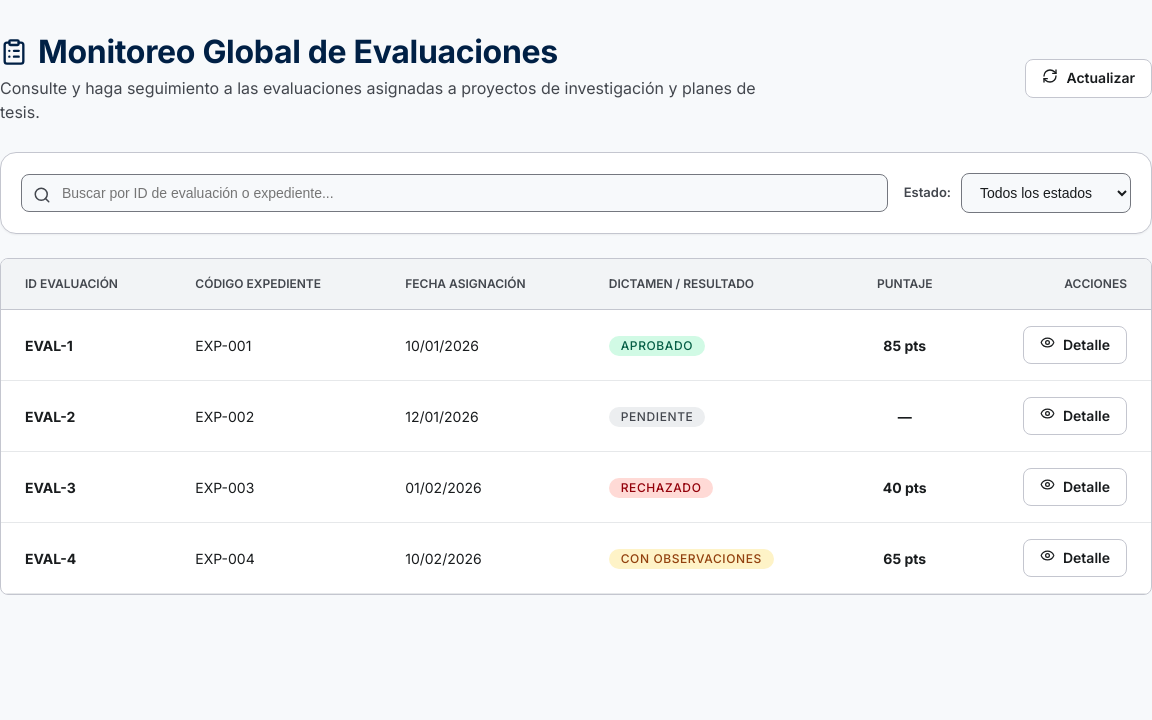
Scenario: DirectorEvaluations › closes detail modal when close button is clicked
Click the button "Detalle" in the row of "EXP-001" at (1075, 345), box [1023,326,1127,364]
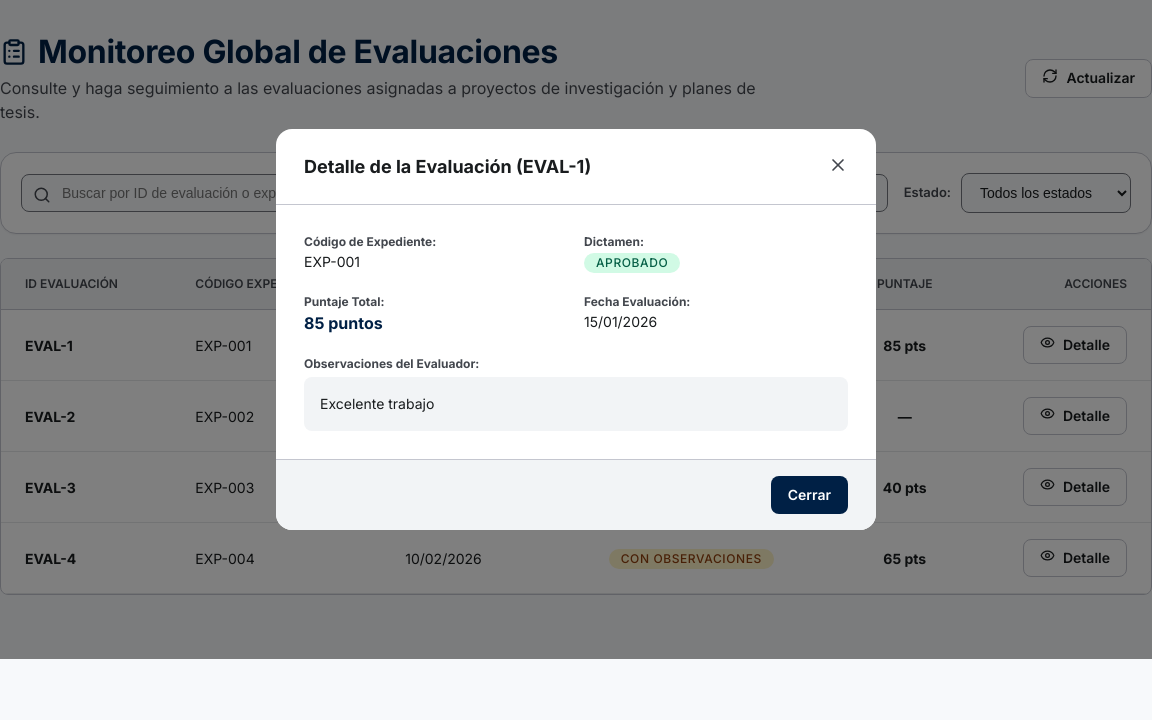
Now the text "Excelente trabajo" is shown, box [304,377,848,431]
Click the button "Cerrar" at (809, 495), box [771,476,848,514]
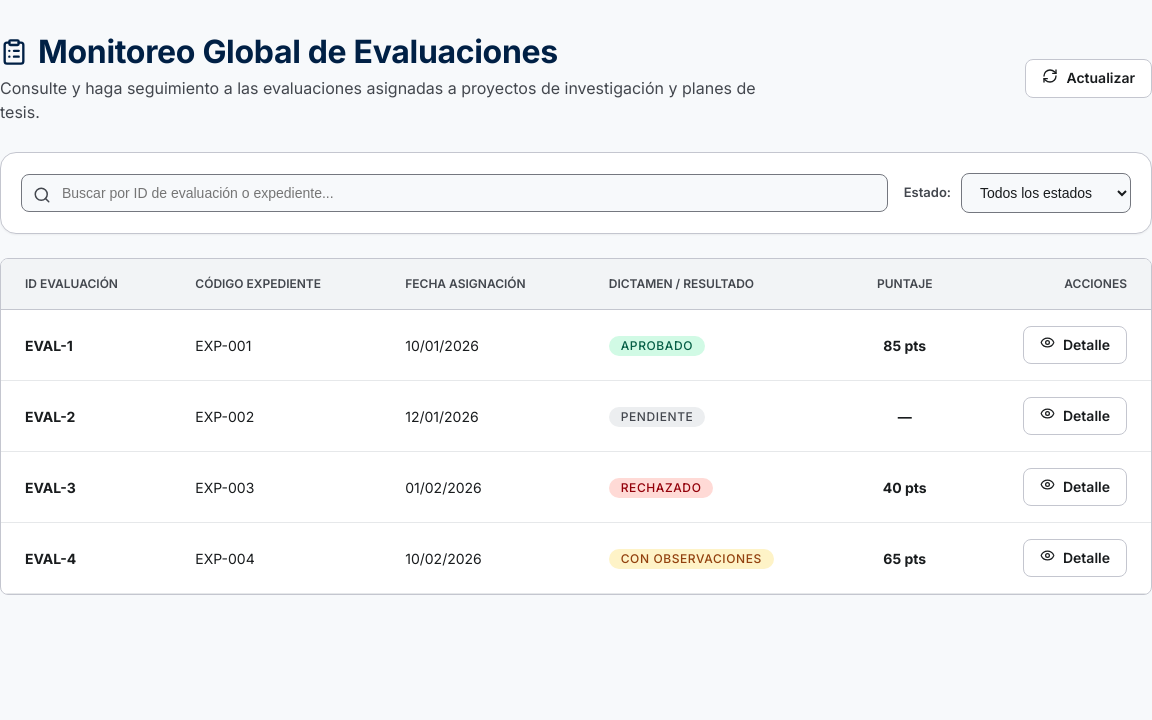
Now the text "Excelente trabajo" is gone
